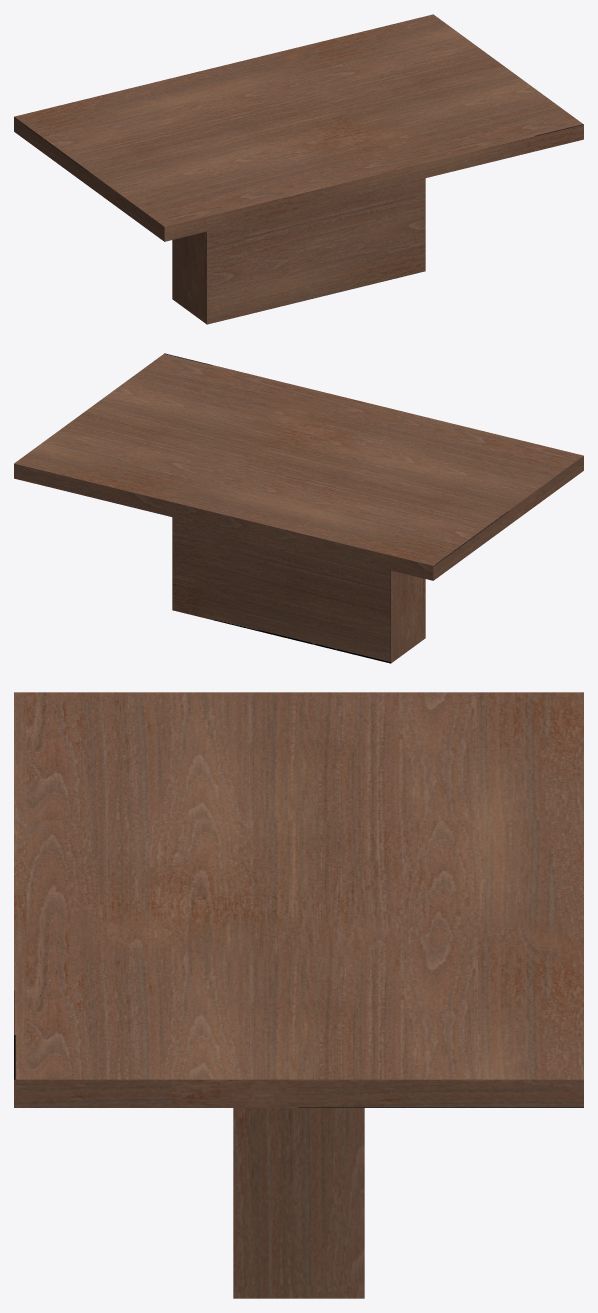
File: table_draco.glb
3 renders of one model, top to bottom at view 1: azimuth 30°, elevation 25°; view 2: azimuth 150°, elevation 25°; view 3: azimuth 270°, elevation 25°, orthographic. The views are drawn at different scales.
Parts seen in each view (by area): view 1: Table; view 2: Table; view 3: Table.
Boxes of the visible parts, x1=… form: Table: x1=14, y1=14, x2=583, y2=324; Table: x1=14, y1=353, x2=583, y2=663; Table: x1=14, y1=692, x2=583, y2=1298.
Size of what is drawn, in the model's own units: 3.21 by 1.21 by 2.
Materials: 1 (1 with a texture image).
